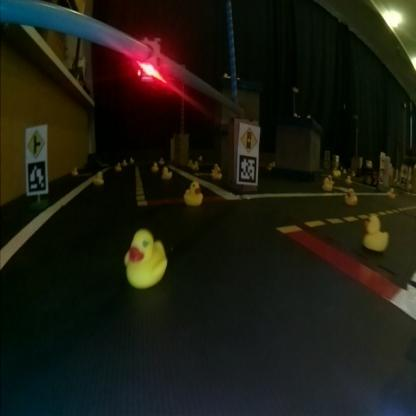Duckie: (126, 230, 168, 288), (364, 216, 388, 250), (184, 183, 202, 205), (346, 188, 357, 204), (162, 167, 172, 179), (323, 178, 332, 190), (95, 172, 103, 184), (214, 166, 221, 178), (72, 166, 78, 174), (128, 156, 134, 164), (116, 162, 121, 171), (122, 158, 127, 166), (153, 164, 158, 172), (194, 162, 199, 169)
Intersection sign: (27, 126, 47, 156)
QR code: (28, 160, 48, 193), (240, 154, 258, 184)
Signal sign: (239, 124, 261, 152)
Traffic light: (139, 36, 163, 80)
